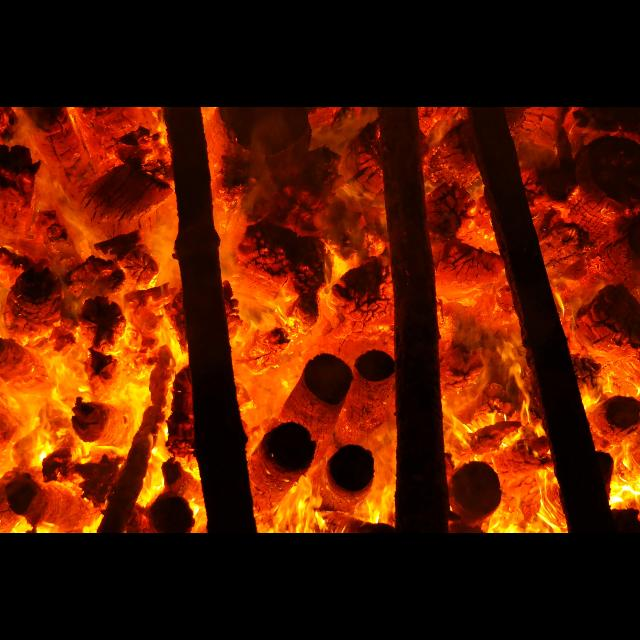fire: (0, 107, 208, 534), (200, 107, 398, 534), (415, 107, 569, 534), (502, 107, 640, 534)
